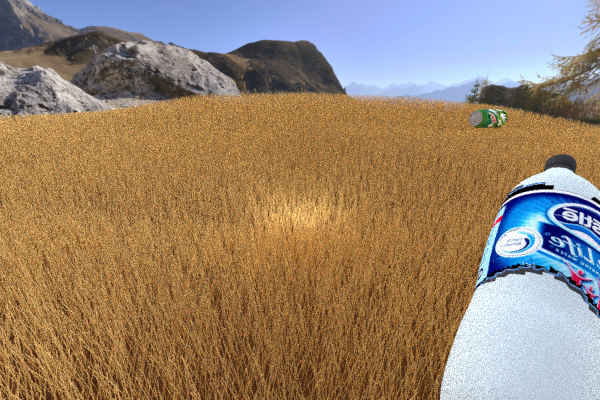Plastic Bottle: (440, 154, 600, 400), (293, 107, 324, 130), (468, 109, 507, 127)
